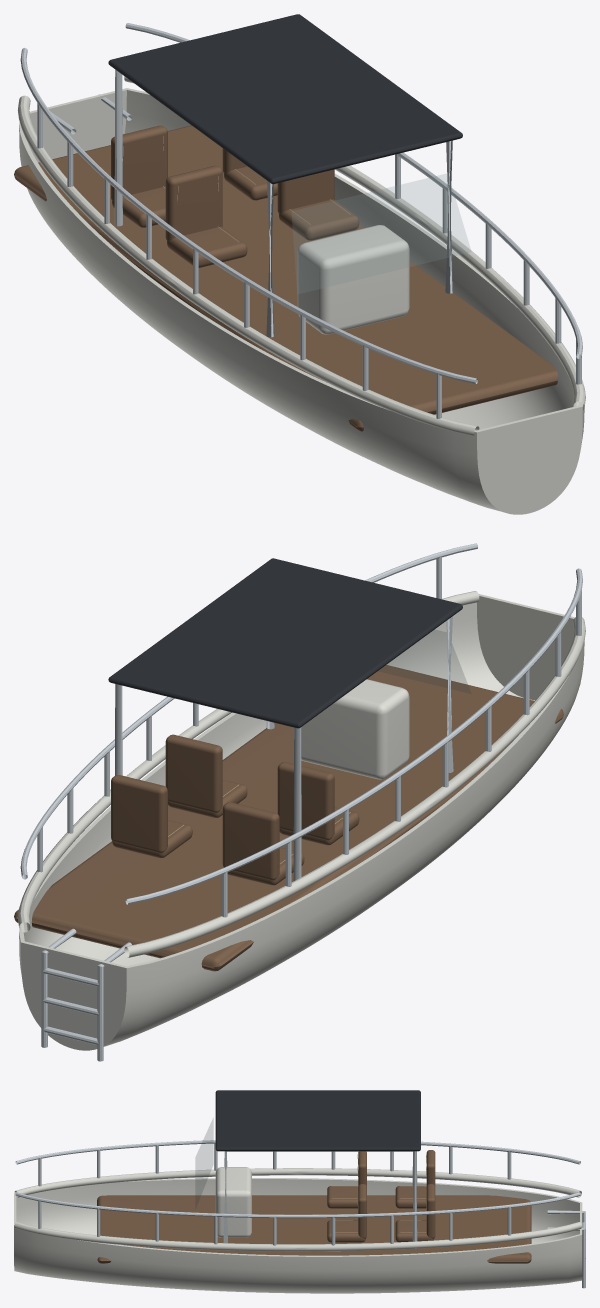
The model's file is HarborLaunch.fbx.
The picture shows the model from 3 angles, top to bottom: view 1: azimuth 30°, elevation 25°; view 2: azimuth 150°, elevation 25°; view 3: azimuth 270°, elevation 25°; orthographic projection. The views are drawn at different scales.
Visible parts, largest first — view 1: SweptHull, Deck, Canopy, Windshield, HelmConsole, Gunwale, Gunwale.001, SafetyRail, PassengerBack, PassengerBack.001, PassengerCushion.002, SafetyRail.001 (+6 smaller); view 2: SweptHull, Deck, Canopy, HelmConsole, Gunwale, PassengerBack.002, PassengerBack.003, SafetyRail, PassengerBack.001, Gunwale.001, PassengerBack, Windshield (+8 smaller); view 3: SweptHull, Deck, Canopy, Gunwale.001, Gunwale, SafetyRail.001, HelmConsole, SafetyRail, Windshield, CanopyPole.001, PassengerCushion, PassengerCushion.002 (+6 smaller).
Boxes of the visible parts, bbox=[...] form: SweptHull: bbox=[19, 88, 584, 514]; Deck: bbox=[14, 125, 558, 431]; Canopy: bbox=[108, 14, 462, 183]; Windshield: bbox=[292, 173, 471, 293]; HelmConsole: bbox=[297, 225, 409, 334]; Gunwale: bbox=[17, 95, 479, 436]; Gunwale.001: bbox=[124, 76, 585, 409]; SafetyRail: bbox=[20, 48, 477, 383]; PassengerBack: bbox=[165, 165, 222, 240]; PassengerBack.001: bbox=[111, 125, 167, 200]; PassengerCushion.002: bbox=[279, 199, 359, 240]; SafetyRail.001: bbox=[125, 23, 582, 358]; SweptHull: bbox=[19, 594, 584, 1050]; Deck: bbox=[14, 665, 563, 971]; Canopy: bbox=[108, 558, 462, 728]; HelmConsole: bbox=[301, 679, 409, 779]; Gunwale: bbox=[124, 617, 585, 957]; PassengerBack.002: bbox=[165, 734, 222, 812]; PassengerBack.003: bbox=[111, 775, 167, 853]; SafetyRail: bbox=[125, 568, 582, 904]; PassengerBack.001: bbox=[222, 802, 279, 880]; Gunwale.001: bbox=[17, 591, 479, 932]; PassengerBack: bbox=[277, 762, 334, 840]; Windshield: bbox=[379, 630, 470, 693]; SweptHull: bbox=[14, 1178, 582, 1293]; Deck: bbox=[97, 1195, 531, 1263]; Canopy: bbox=[215, 1090, 420, 1151]; Gunwale.001: bbox=[14, 1222, 581, 1251]; Gunwale: bbox=[14, 1168, 581, 1197]; SafetyRail.001: bbox=[15, 1192, 580, 1218]; HelmConsole: bbox=[215, 1167, 251, 1237]; SafetyRail: bbox=[15, 1140, 580, 1164]; Windshield: bbox=[195, 1118, 213, 1208]; CanopyPole.001: bbox=[223, 1151, 417, 1248]; PassengerCushion: bbox=[327, 1186, 358, 1208]; PassengerCushion.002: bbox=[327, 1220, 365, 1242].
Size of the model in its own units: 233 by 220 by 711.
